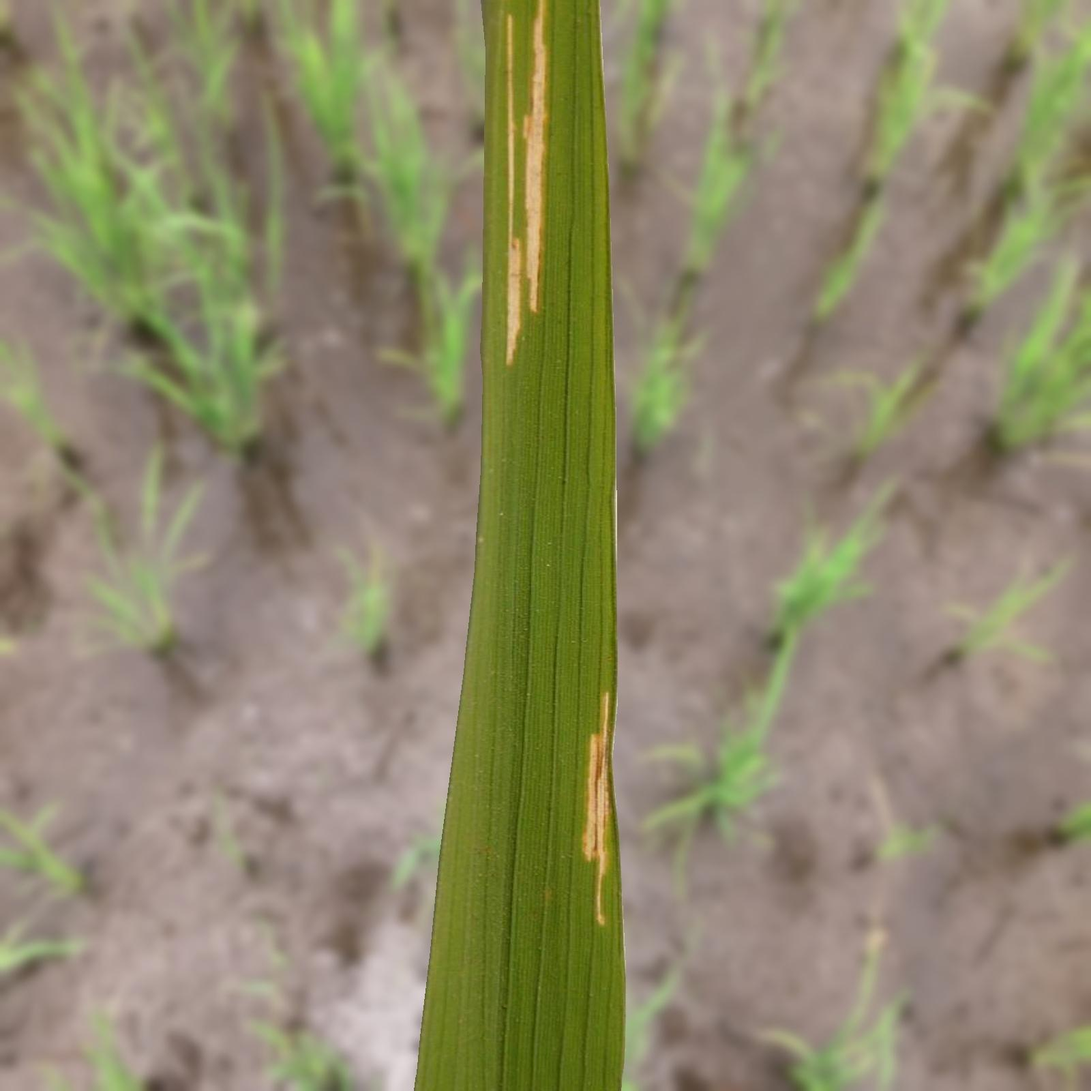BLS: (524, 0, 551, 312), (582, 691, 610, 925), (506, 14, 522, 365)
LEAF: (414, 0, 625, 1090)
